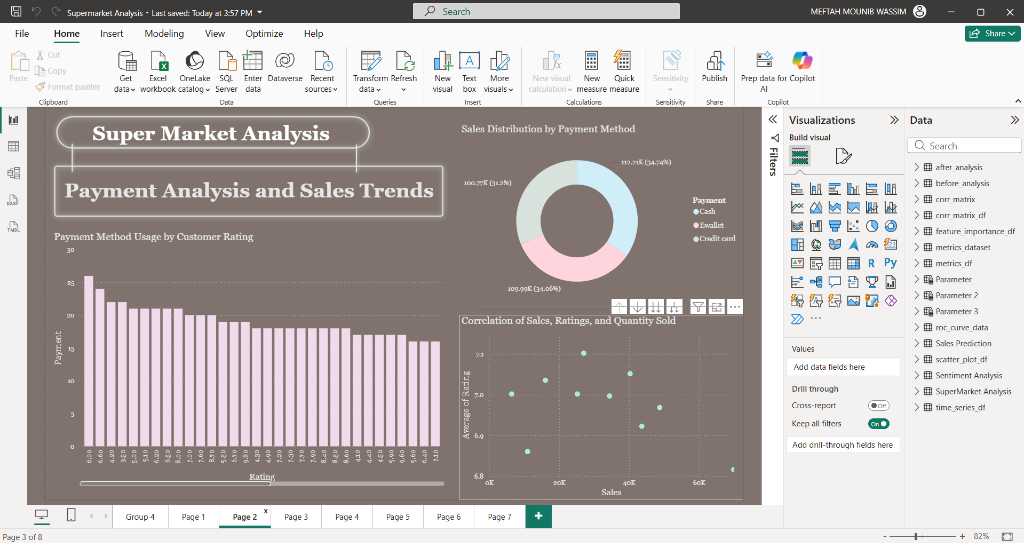

The dashboard page shown, as its layout file describes it:
{"tool":"powerbi","page":{"name":"Page 2","canvas":[1280,720],"ordinal":2},"visuals":[{"type":"donutChart","title":"Sales Distribution by Payment Method","fields":{"Category":["SuperMarket Analysis.Payment"],"Y":["Sum(SuperMarket Analysis.Sales)"]},"box":[758.6,30,521.4,337.1],"z":0},{"type":"shape","box":[7.8,98.1,731.4,111.4],"z":0,"group":"g2"},{"type":"textbox","box":[26.4,126.7,695.7,55.7],"z":1000,"group":"g2"},{"type":"clusteredColumnChart","title":"Payment Method Usage by Customer Rating","fields":{"Category":["SuperMarket Analysis.Rating"],"Y":["CountNonNull(SuperMarket Analysis.Payment)"]},"box":[11.4,227.1,725.7,472.9],"z":1000},{"type":"scatterChart","title":"Correlation of Sales, Ratings, and Quantity Sold","fields":{"X":["Sum(SuperMarket Analysis.Sales)"],"Y":["Avg(SuperMarket Analysis.Rating)"],"Category":["SuperMarket Analysis.Quantity","SuperMarket Analysis.gross income"]},"box":[758.6,381.4,521.4,338.6],"z":2000},{"type":"group","id":"g1","title":"Group 3","box":[7.8,8.1,731.4,201.4],"z":3000},{"type":"shape","box":[792.9,360,454.3,12.9],"z":4000},{"type":"shape","box":[11.3,8.1,592.9,77.1],"z":7000,"group":"g1"},{"type":"textbox","box":[48.4,21,512.9,64.3],"z":8000,"group":"g1"},{"type":"group","id":"g2","title":"Group 1","box":[7.8,98.1,731.4,111.4],"z":9000,"group":"g1"},{"type":"shape","box":[41.3,59.5,14.3,67.1],"z":10000,"group":"g1"},{"type":"shape","box":[561.3,61,15.7,67.1],"z":11000,"group":"g1"}]}

Visuals, with their boxes on the page's 1280x720 design canvas (x1, y1, x2, y2). These are canvas units, not pixel positions in the 1024x543 screenshot, which may show the page scaled, cropped or inside an application window:
"Sales Distribution by Payment Method" donutChart: bbox=[759, 30, 1280, 367]
shape: bbox=[8, 98, 739, 210]
textbox: bbox=[26, 127, 722, 182]
"Payment Method Usage by Customer Rating" clusteredColumnChart: bbox=[11, 227, 737, 700]
"Correlation of Sales, Ratings, and Quantity Sold" scatterChart: bbox=[759, 381, 1280, 720]
"Group 3" group: bbox=[8, 8, 739, 210]
shape: bbox=[793, 360, 1247, 373]
shape: bbox=[11, 8, 604, 85]
textbox: bbox=[48, 21, 561, 85]
"Group 1" group: bbox=[8, 98, 739, 210]
shape: bbox=[41, 60, 56, 127]
shape: bbox=[561, 61, 577, 128]
